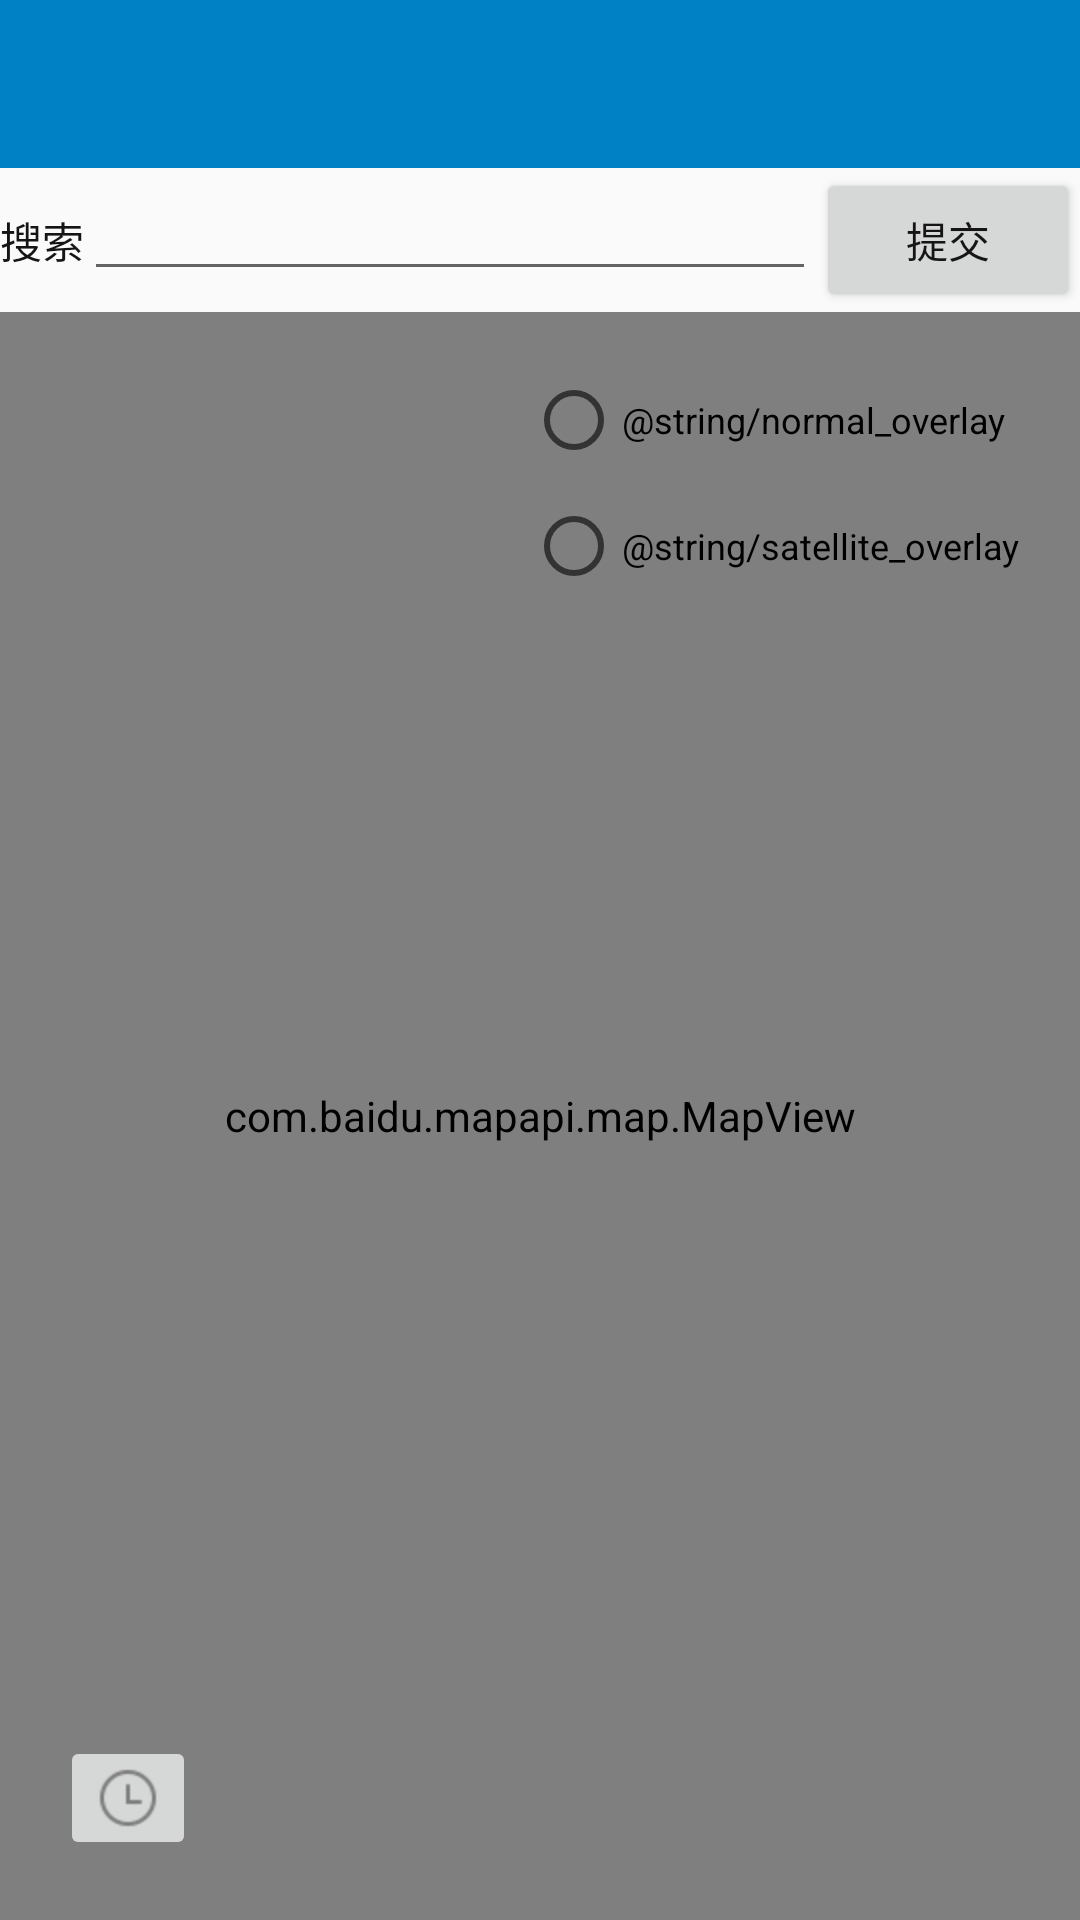

Icons on this 1080px x 1920px Android screen, each with its box as [left=x1, top=y1, right=x2, bottom=y2]:
clock: [left=72, top=1754, right=184, bottom=1842]
